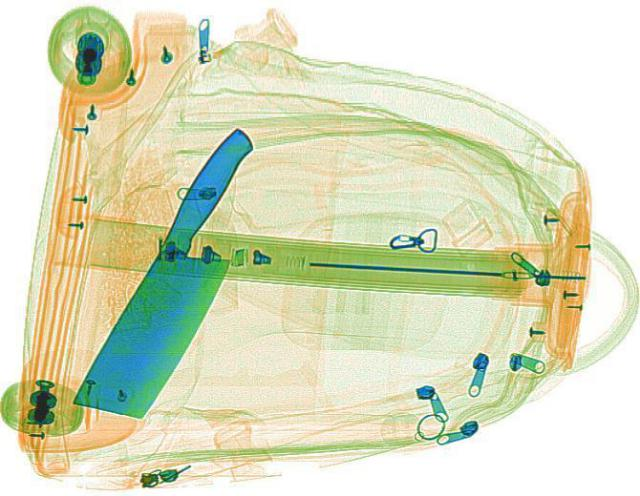Knife: (67, 120, 293, 422)
